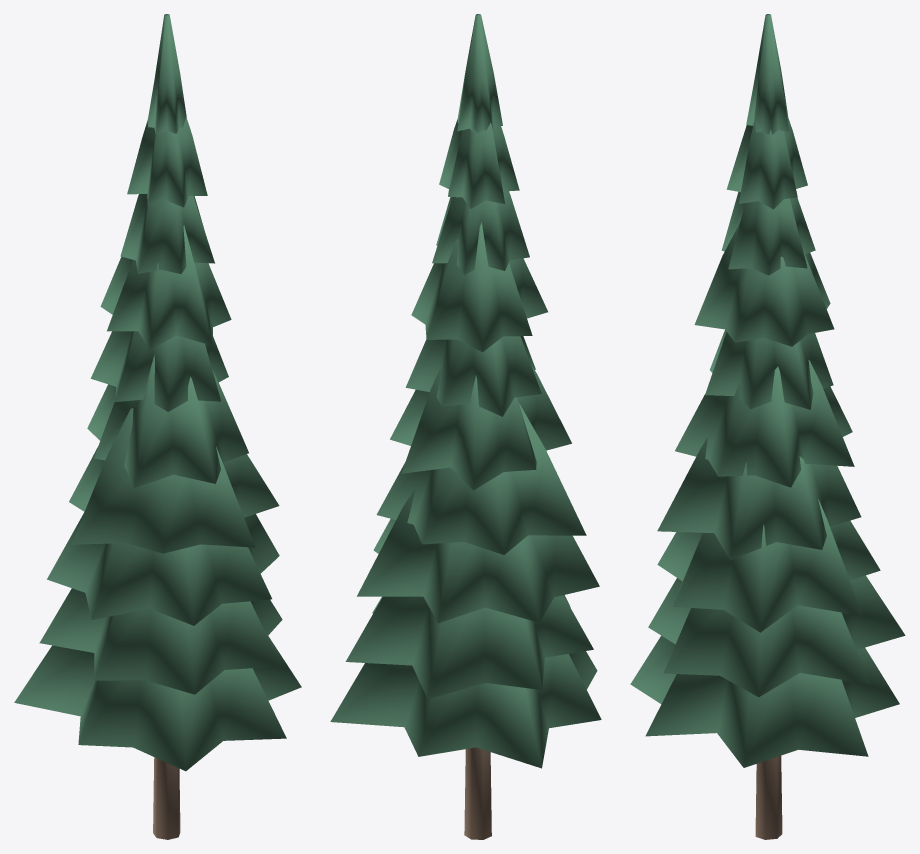
Rendered from snowy_spruce.glb.
3 views of the same model, side by side, from view 1: azimuth 30°, elevation 25°; view 2: azimuth 150°, elevation 25°; view 3: azimuth 270°, elevation 25° (orthographic).
Visible parts, largest first — view 1: snowy_spruce; view 2: snowy_spruce; view 3: snowy_spruce.
Boxes of the visible parts, left/top/right/bottom form: snowy_spruce: left=14, top=14, right=301, bottom=839; snowy_spruce: left=330, top=14, right=601, bottom=839; snowy_spruce: left=630, top=14, right=905, bottom=839.
Bounding box in the file's own units: 2.17 × 7.36 × 2.24.
